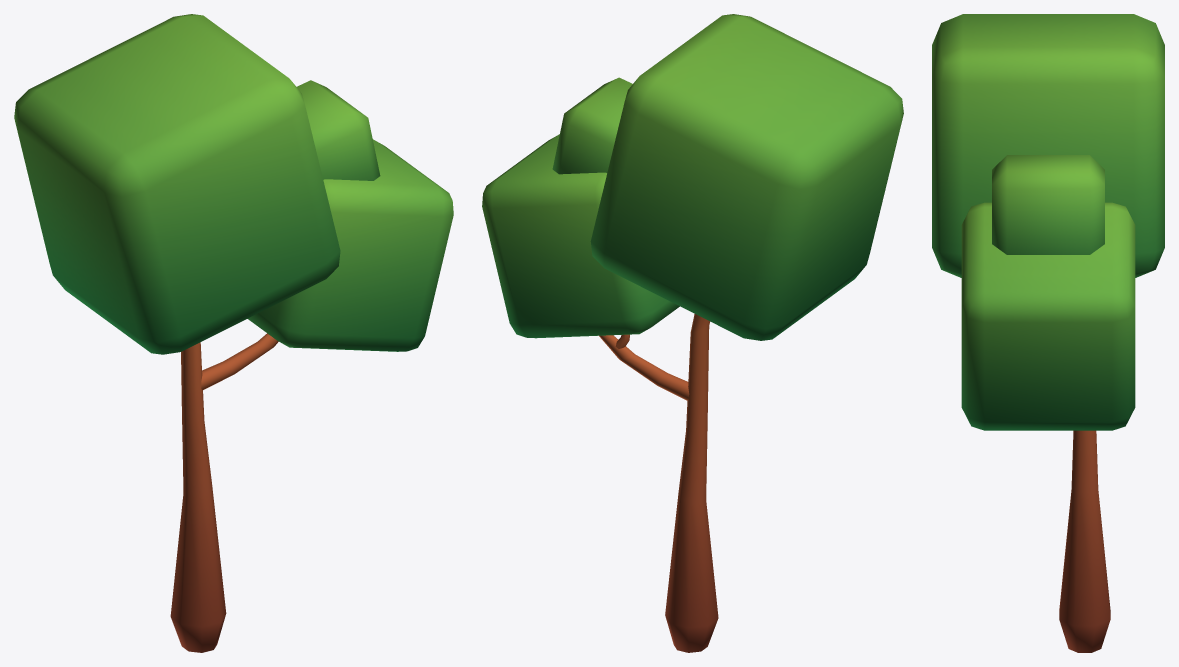
The model's file is Tree_2_B_Color1.glb.
3 renders of one model, left to right at view 1: azimuth 30°, elevation 25°; view 2: azimuth 150°, elevation 25°; view 3: azimuth 270°, elevation 25°, orthographic. The views are drawn at different scales.
Visible parts, largest first — view 1: Tree_2_B_Color1; view 2: Tree_2_B_Color1; view 3: Tree_2_B_Color1.
Part boxes in pixels (x1,y1,x2,y2): Tree_2_B_Color1: [14, 14, 453, 652]; Tree_2_B_Color1: [482, 14, 903, 652]; Tree_2_B_Color1: [932, 14, 1164, 652].
Size of the model in its own units: 3.7 by 6.04 by 2.1.
1 material, 1 textured.
